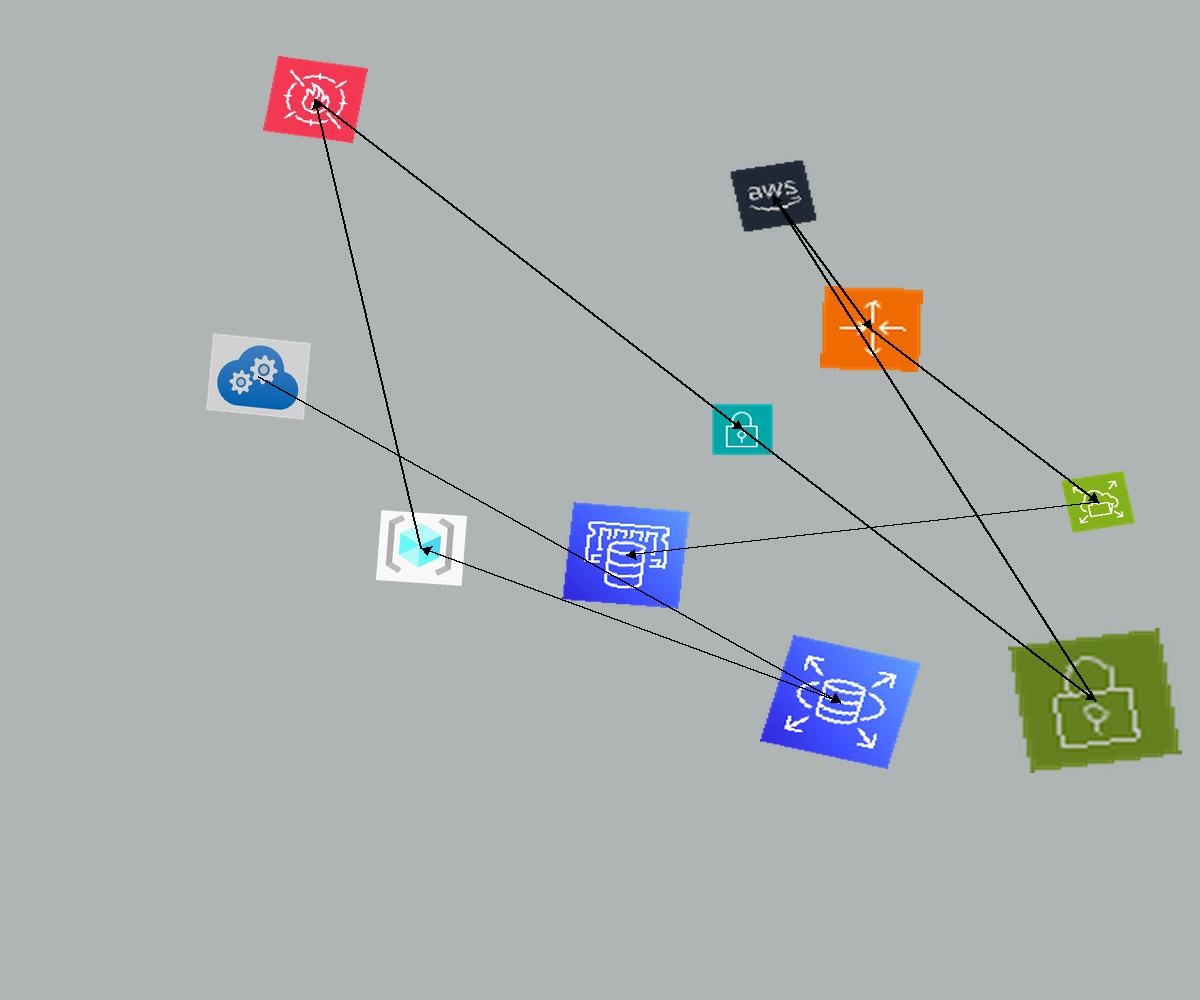AWS-Cloud-logo: (729, 159, 818, 233)
AWS-EFS: (1061, 471, 1135, 533)
AWS-ElastiCache: (562, 502, 690, 609)
AWS-Private-subnet: (711, 403, 774, 456)
AWS-Public-subnet: (1008, 628, 1182, 773)
AWS-RDS: (760, 635, 921, 769)
AWS-Scaling-group: (820, 286, 923, 372)
AWS-WAF: (262, 55, 369, 144)
Azure_cloud_services: (206, 333, 311, 420)
Azure_resource_group: (376, 510, 467, 586)
